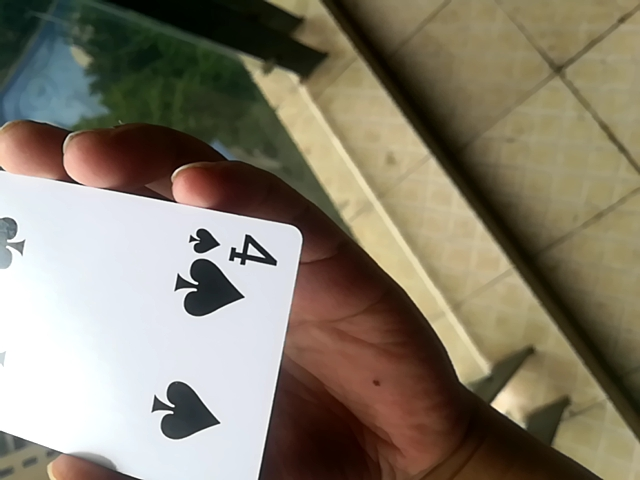ht 4: (1, 149, 304, 479)
